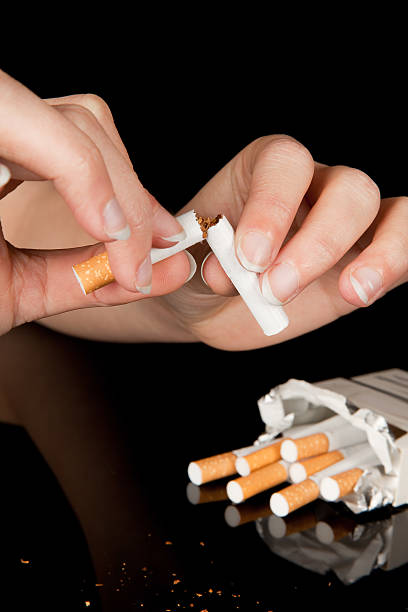cigarette: (251, 365, 408, 519), (72, 209, 208, 296), (202, 212, 291, 337), (269, 442, 374, 519), (231, 412, 347, 479), (186, 440, 286, 486), (277, 421, 368, 464), (287, 441, 376, 484), (225, 456, 291, 504), (319, 457, 381, 506)
